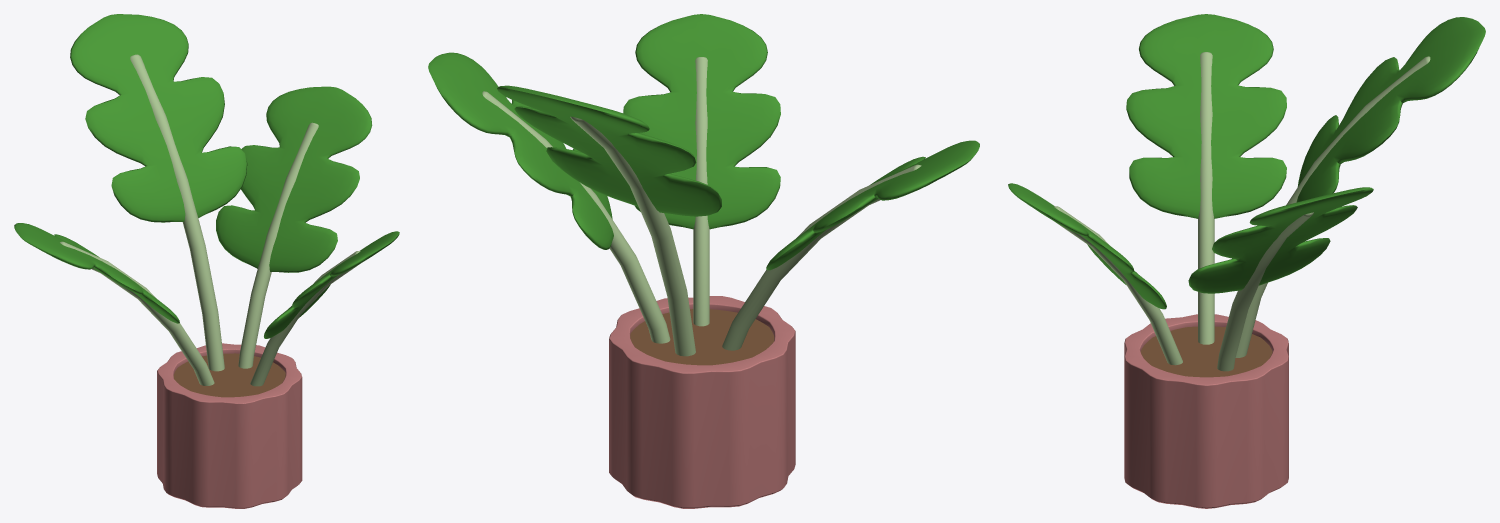
File: Vase_1.glb
3 renders of one model, left to right at view 1: azimuth 30°, elevation 25°; view 2: azimuth 150°, elevation 25°; view 3: azimuth 270°, elevation 25°, orthographic. The views are drawn at different scales.
Visible parts, largest first — view 1: Plant_44; view 2: Plant_44; view 3: Plant_44.
Part boxes in pixels (box(x1,y1,x2,y2)): Plant_44: box(14, 14, 399, 508); Plant_44: box(428, 14, 979, 508); Plant_44: box(1008, 14, 1485, 508).
Bounding box in the file's own units: 1.34 × 1.29 × 1.26.
1 material, 1 textured.
